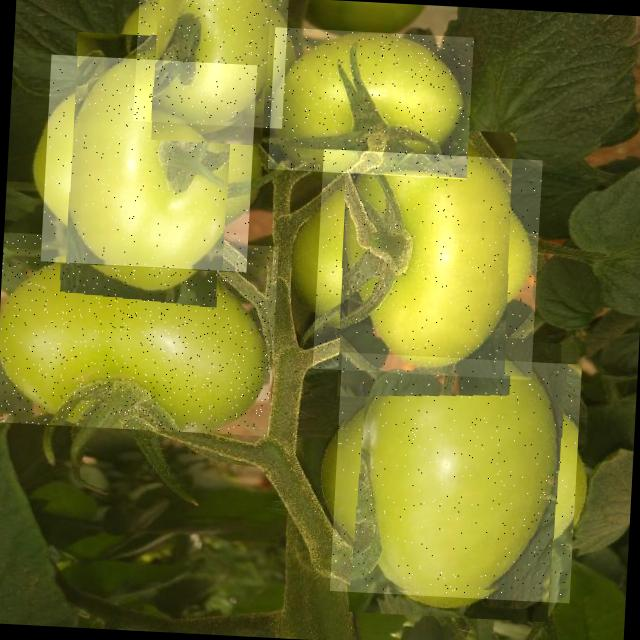Unripe Tomato: (330, 352, 582, 604), (0, 230, 279, 436), (312, 149, 542, 380), (41, 54, 257, 270), (268, 28, 474, 180), (133, 0, 289, 129)
